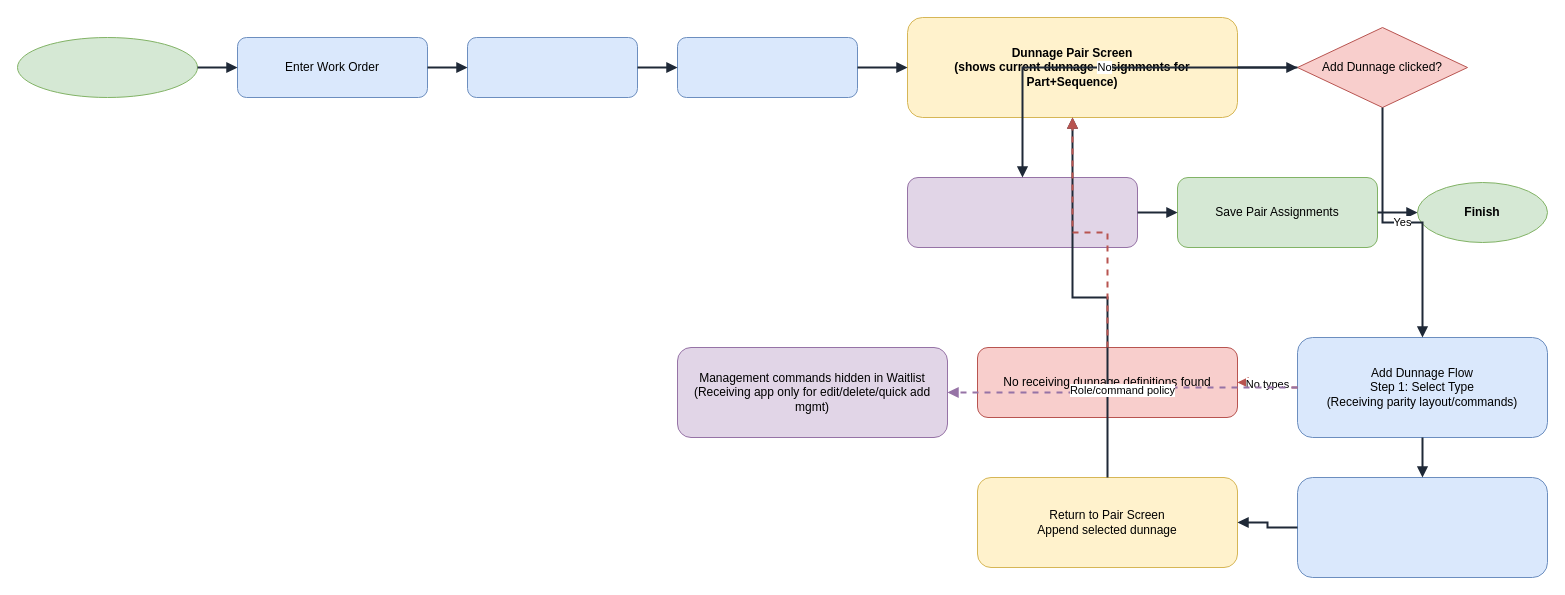
This 1565x595 diagram has some shape labels left out. Here are the shapes that lost their labels. From the top down, the centre of each, then its label:
At pixel 107 67: "Start: Module Setup".
At pixel 552 67: "Select Part".
At pixel 767 67: "Select Sequence".
At pixel 1022 212: "Review Screen (Tabbed)".
At pixel 1422 527: "Add Dunnage Flow Step 2: Select Part(s) Multi-select enabled".
